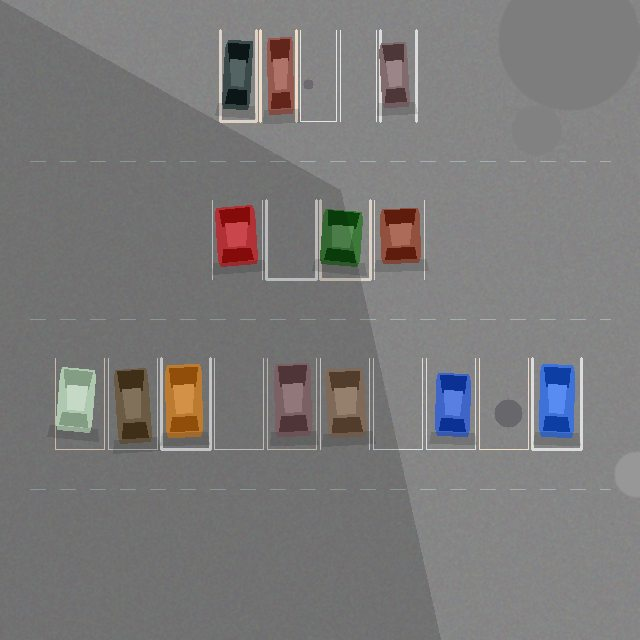space-empty: (214, 358, 263, 449), (373, 358, 422, 449), (479, 358, 528, 449), (266, 200, 316, 279), (300, 30, 336, 121), (340, 30, 376, 121)
space-occupied: (55, 358, 104, 449), (108, 358, 157, 449), (161, 358, 210, 449), (267, 358, 316, 449), (320, 358, 369, 449), (426, 358, 475, 449), (532, 358, 581, 449), (212, 200, 262, 279), (320, 200, 370, 279), (374, 200, 424, 279), (220, 30, 256, 121), (260, 30, 296, 121), (380, 30, 416, 121)
